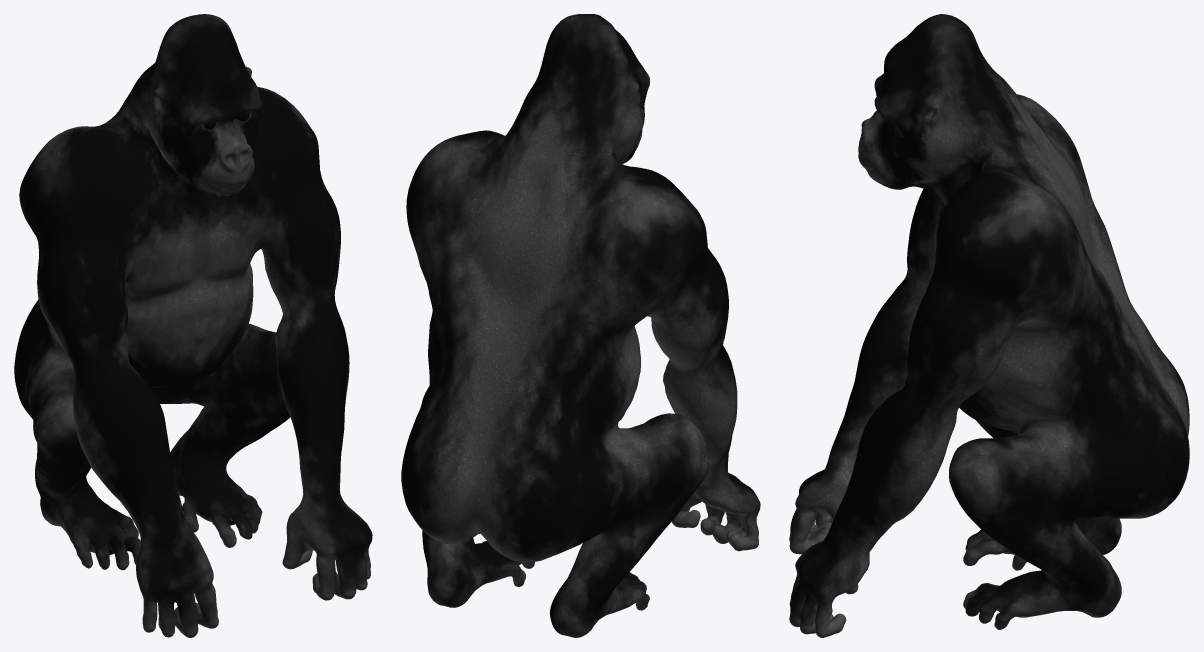
The model's file is gorilla_caged.glb.
3 renders of one model, left to right at view 1: azimuth 30°, elevation 25°; view 2: azimuth 150°, elevation 25°; view 3: azimuth 270°, elevation 25°, orthographic. The views are drawn at different scales.
Visible parts, largest first — view 1: Cylinder.002_Gorilla_0; view 2: Cylinder.002_Gorilla_0; view 3: Cylinder.002_Gorilla_0.
Part boxes in pixels (x1=…): Cylinder.002_Gorilla_0: x1=14, y1=14, x2=372, y2=637; Cylinder.002_Gorilla_0: x1=401, y1=14, x2=760, y2=637; Cylinder.002_Gorilla_0: x1=789, y1=14, x2=1189, y2=637.
Size of the model in its own units: 342 by 619 by 396.
2 materials, 1 textured.
